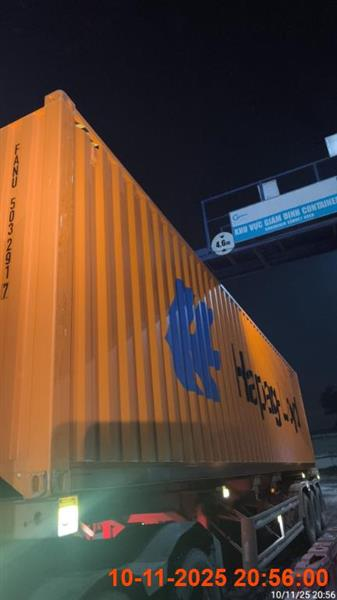broken: (0, 89, 327, 599)
